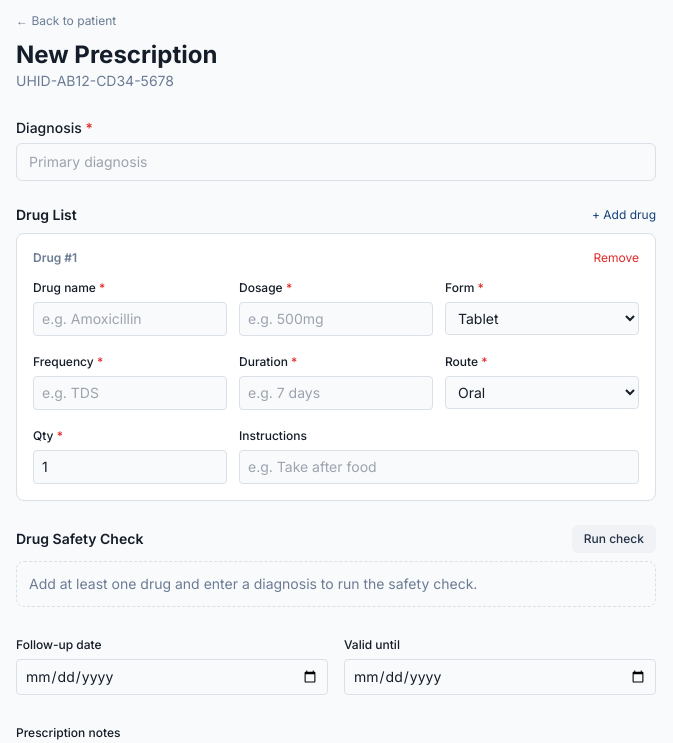
NewPrescriptionPage — Pharma-check passed › shows pharma-passed strip after a clean check
Type "Metformin" into the field with test id "drug-name-0" at (130, 319), box [33,302,227,336]
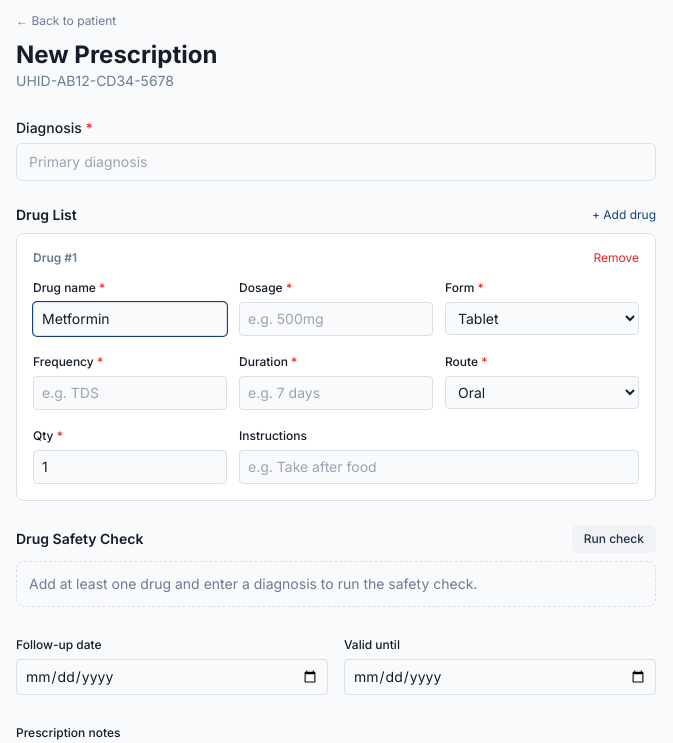
Click the button with test id "run-pharma-check-btn" at (614, 539), box [572,525,656,553]
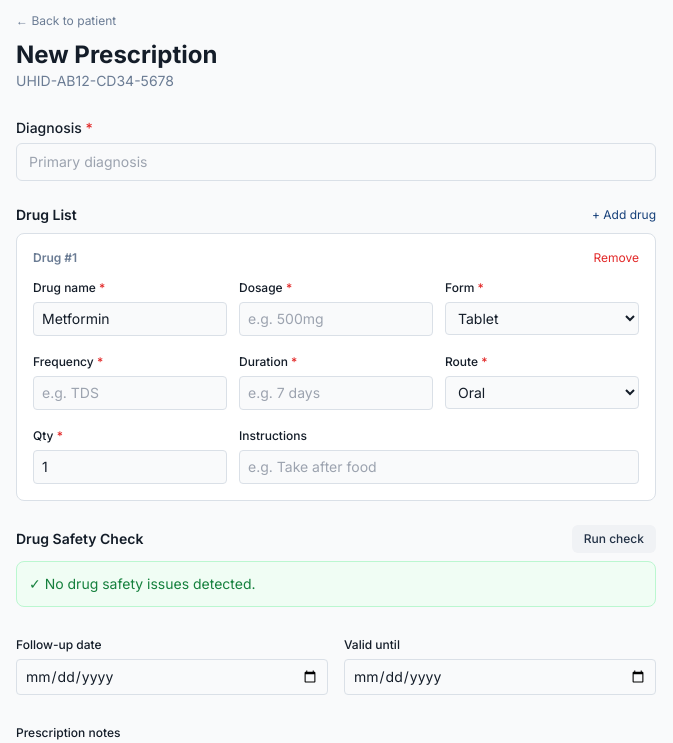
Result: the text "✓ No drug safety issues detected." is shown at [16,561,656,607]
